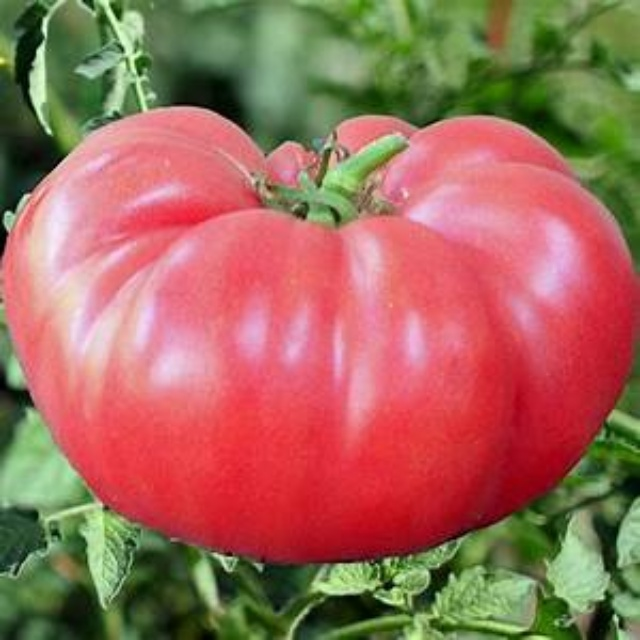tomato: (18, 109, 639, 558)
